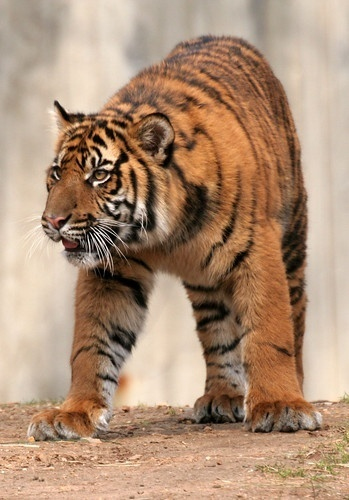tigre: (22, 30, 329, 447)
